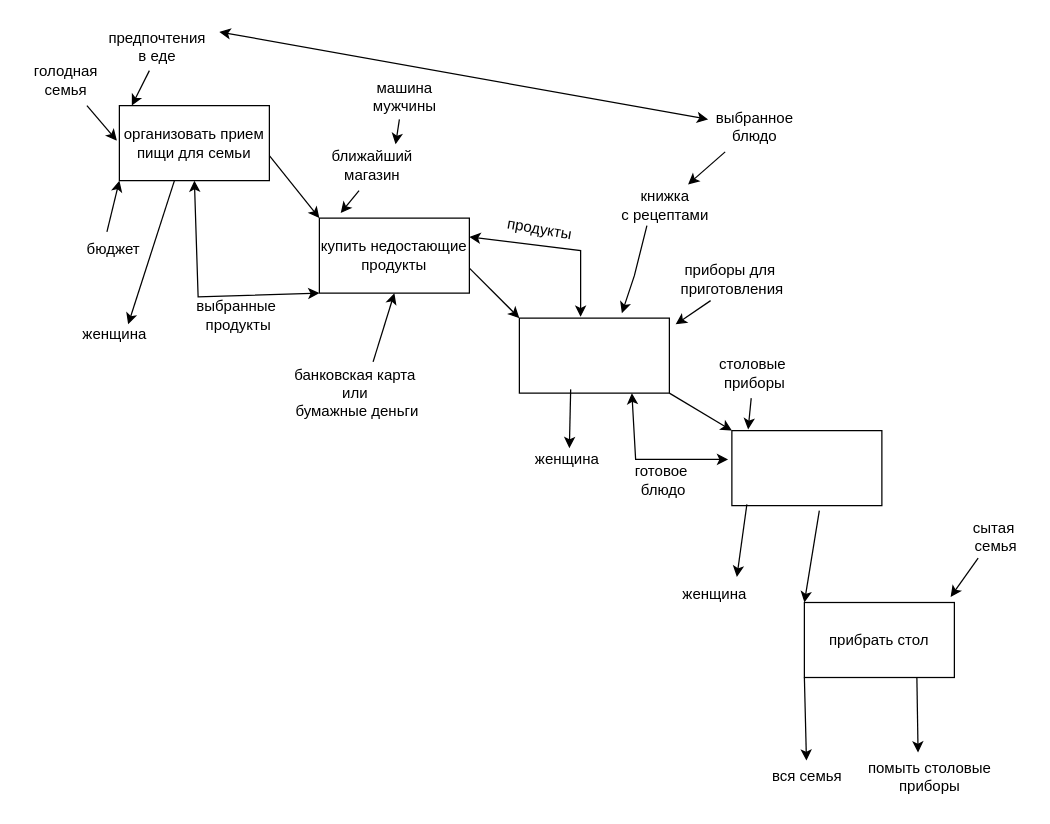
Image size: 1050x824. Some labels were removed from this diagram. The shapes that lost their labels are listed below. From the top down, each one's centre as x and y in pixels, then its label:
(x=593, y=355): начать приготовление блюда
(x=806, y=467): накрыть стол и начать прием пищи с семьей
